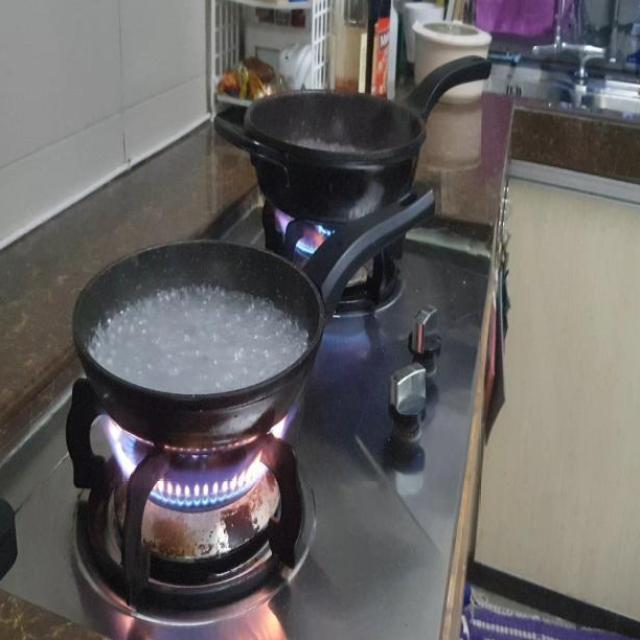smoke: (92, 408, 290, 518), (270, 194, 332, 254)
